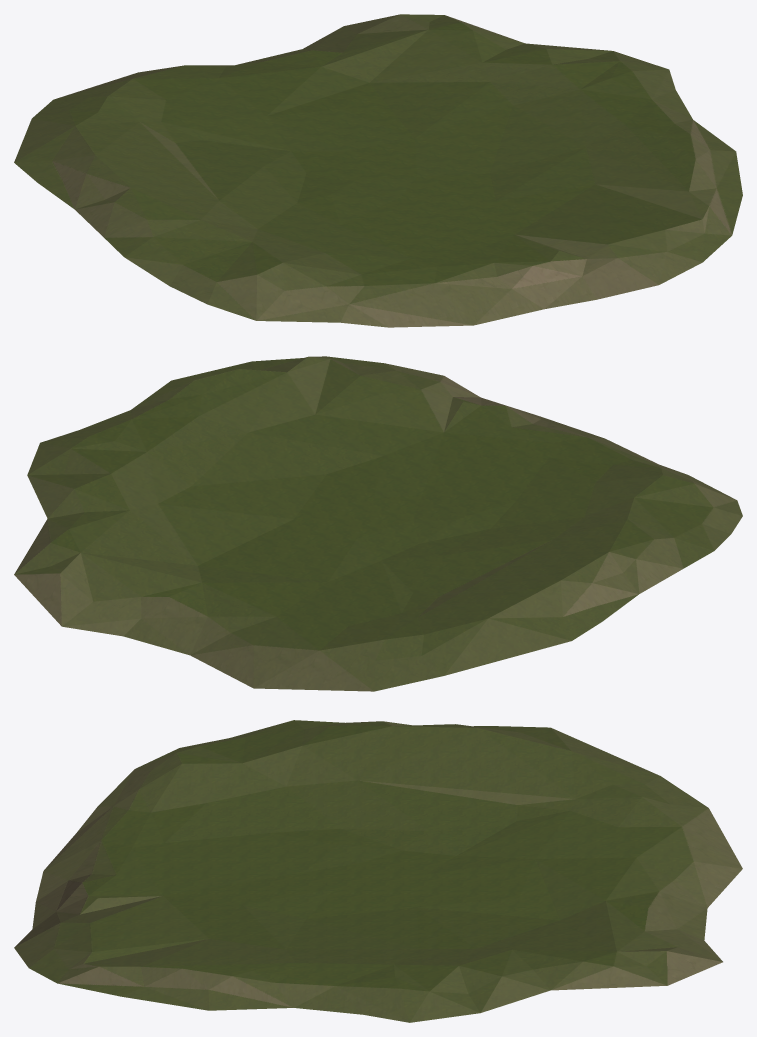
The model's file is SM_Env_Ground_Mound_Large_04.glb.
3 views of the same model, one above another, from view 1: azimuth 30°, elevation 25°; view 2: azimuth 150°, elevation 25°; view 3: azimuth 270°, elevation 25° (orthographic). The views are drawn at different scales.
Parts seen in each view (by area): view 1: SM_Env_Ground_Mound_Large_04; view 2: SM_Env_Ground_Mound_Large_04; view 3: SM_Env_Ground_Mound_Large_04.
Part boxes in pixels (x1,y1,x2,y2): SM_Env_Ground_Mound_Large_04: (14,14,742,327); SM_Env_Ground_Mound_Large_04: (14,356,742,691); SM_Env_Ground_Mound_Large_04: (14,720,742,1022).
Bounding box in the file's own units: 37.28 × 3.37 × 37.96.
1 material, 1 textured.
